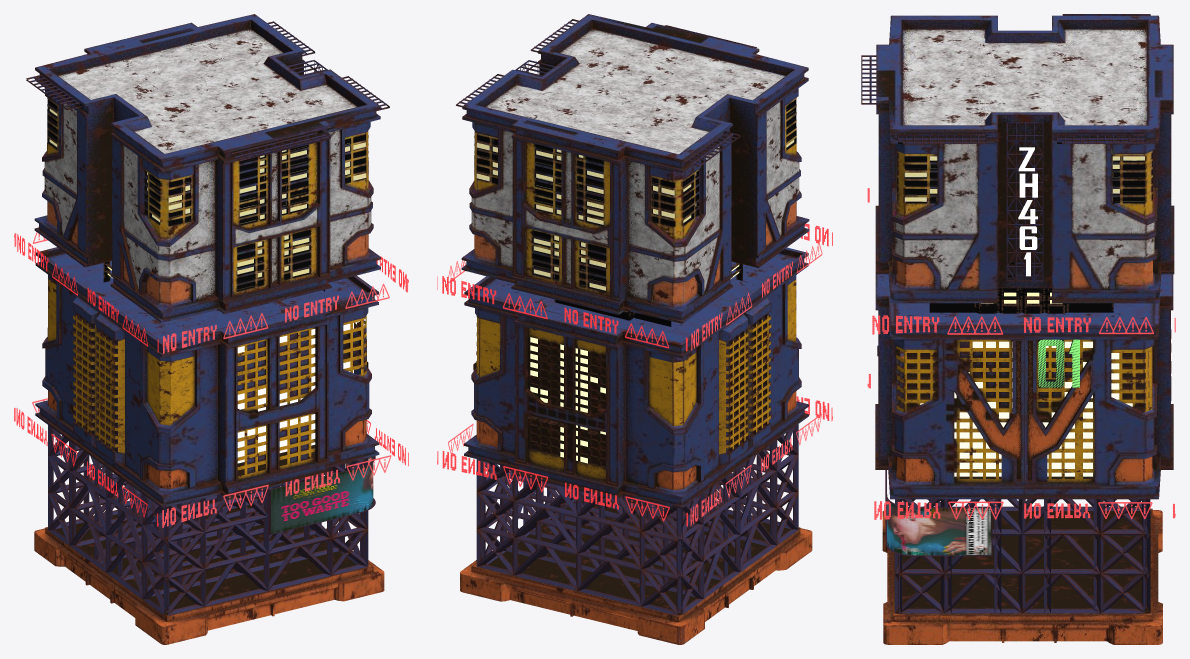
File: SUP_cyberpunk_2077_inspired_buildin.glb
3 renders of one model, left to right at view 1: azimuth 30°, elevation 25°; view 2: azimuth 150°, elevation 25°; view 3: azimuth 270°, elevation 25°, orthographic. The views are drawn at different scales.
Parts seen in each view (by area): view 1: SUP_cyberpunk_2077_inspired_buildin; view 2: SUP_cyberpunk_2077_inspired_buildin; view 3: SUP_cyberpunk_2077_inspired_buildin.
Part boxes in pixels (left/top/right/bottom): SUP_cyberpunk_2077_inspired_buildin: left=14, top=14, right=408, bottom=644; SUP_cyberpunk_2077_inspired_buildin: left=437, top=14, right=832, bottom=644; SUP_cyberpunk_2077_inspired_buildin: left=861, top=14, right=1175, bottom=644.
Bounding box in the file's own units: 5.48 × 10.1 × 5.59.
24 materials, 19 textured.
